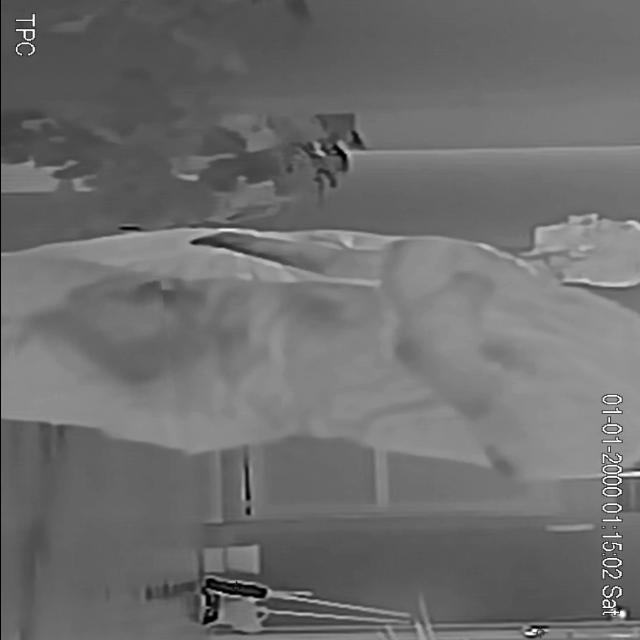Weapon: (11, 281, 170, 413)
